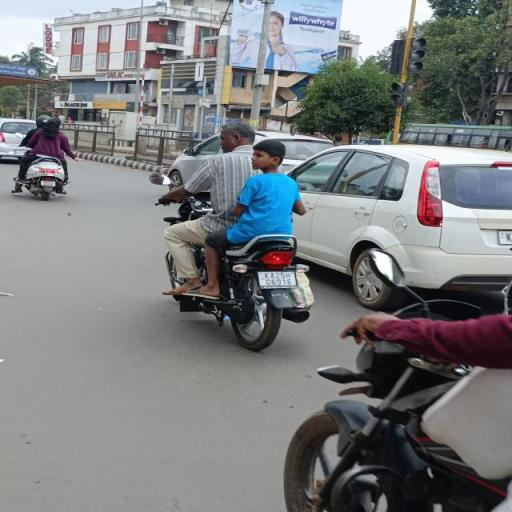bike: (148, 107, 320, 356)
numberplate: (253, 271, 299, 289)
withouthelmet: (218, 124, 252, 148)
